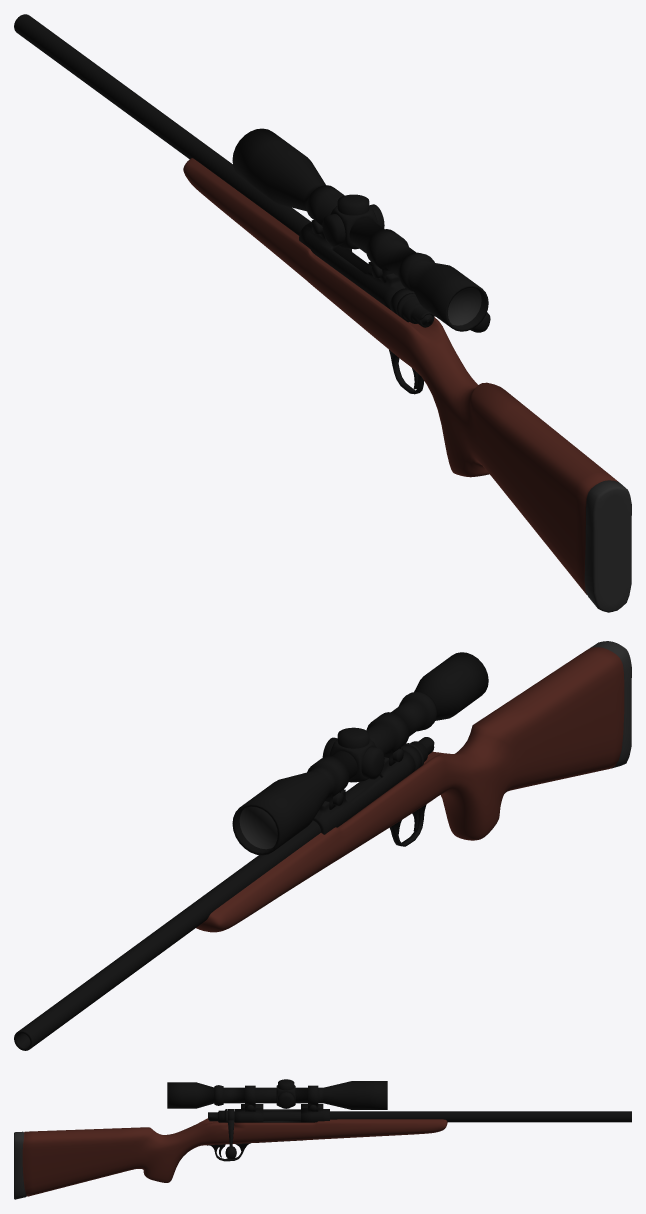
Rendered from Rifle.fbx.
3 renders of one model, top to bottom at view 1: azimuth 30°, elevation 25°; view 2: azimuth 150°, elevation 25°; view 3: azimuth 270°, elevation 25°, orthographic. The views are drawn at different scales.
Parts seen in each view (by area): view 1: Wooden_Frame, Scope, Barrel, Scope_Attachments, Scope_Dials, Bolt_Action_Lever, Bolt_Action_Back; view 2: Wooden_Frame, Scope, Barrel, Scope_Attachments, Scope_Dials, Scope_Dials_Base, Bolt_Action_Lever; view 3: Wooden_Frame, Scope, Barrel, Scope_Attachments, Bolt_Action_Lever, Scope_Dials, Trigger_Frame, Bolt_Action_Back.
Part boxes in pixels (x1=…): Wooden_Frame: x1=183, y1=158, x2=631, y2=612; Scope: x1=232, y1=128, x2=488, y2=331; Barrel: x1=14, y1=14, x2=310, y2=235; Scope_Attachments: x1=299, y1=220, x2=405, y2=309; Scope_Dials: x1=322, y1=194, x2=384, y2=246; Bolt_Action_Lever: x1=333, y1=246, x2=490, y2=332; Bolt_Action_Back: x1=396, y1=293, x2=434, y2=327; Wooden_Frame: x1=196, y1=641, x2=631, y2=932; Scope: x1=232, y1=652, x2=488, y2=855; Barrel: x1=14, y1=820, x2=320, y2=1050; Scope_Attachments: x1=313, y1=747, x2=415, y2=834; Scope_Dials: x1=322, y1=727, x2=384, y2=779; Scope_Dials_Base: x1=329, y1=738, x2=376, y2=782; Bolt_Action_Lever: x1=345, y1=744, x2=421, y2=801; Wooden_Frame: x1=14, y1=1118, x2=447, y2=1199; Scope: x1=167, y1=1081, x2=387, y2=1111; Barrel: x1=330, y1=1111, x2=631, y2=1122; Scope_Attachments: x1=234, y1=1104, x2=329, y2=1122; Bolt_Action_Lever: x1=225, y1=1109, x2=300, y2=1159; Scope_Dials: x1=278, y1=1079, x2=294, y2=1108; Trigger_Frame: x1=207, y1=1140, x2=302, y2=1161; Bolt_Action_Back: x1=208, y1=1109, x2=227, y2=1122.
Bounding box in the file's own units: 14.74 × 29 × 139.
